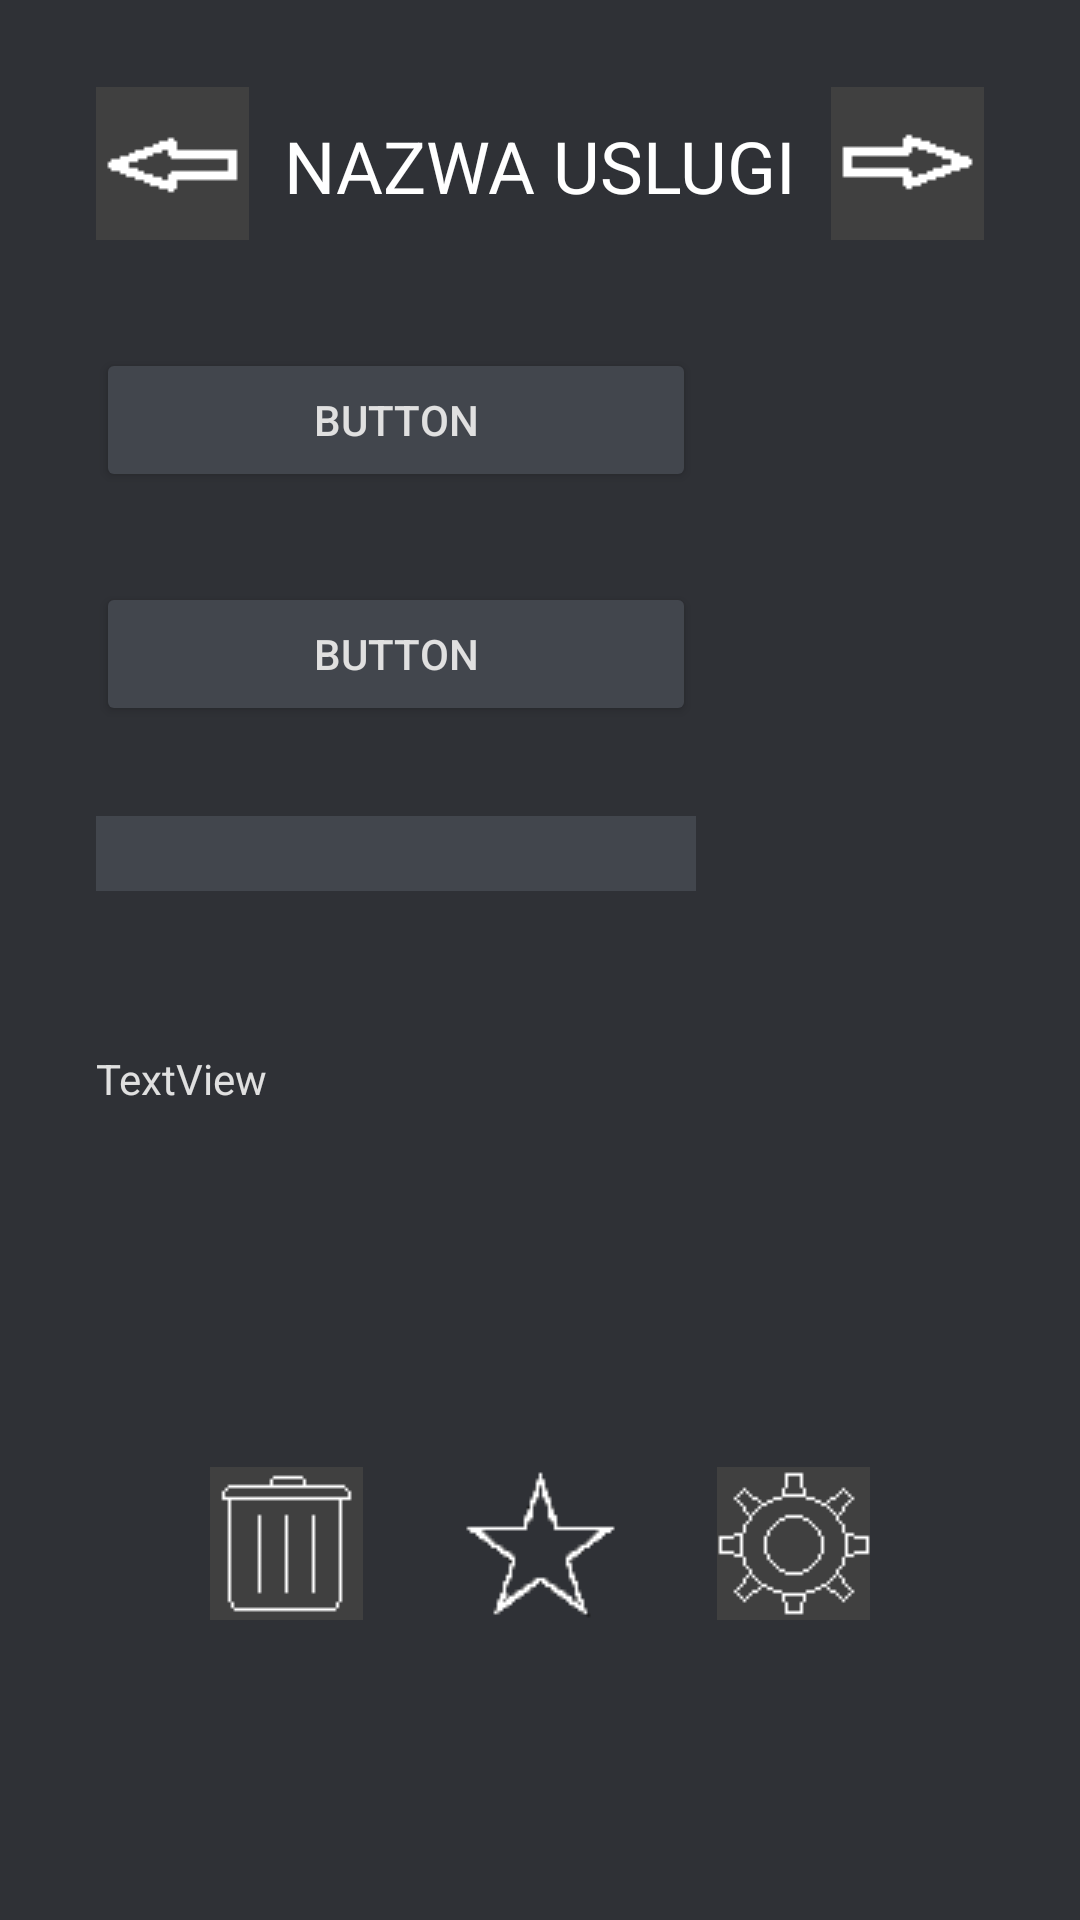

Icons on this 1080px x 1920px Android screen, each with its box as (x1, y1, x2, y2):
arrowleft: (96, 87, 249, 240)
arrowright: (831, 87, 984, 240)
bin: (210, 1467, 363, 1620)
falsestar: (466, 1472, 615, 1616)
gear: (717, 1467, 870, 1620)
